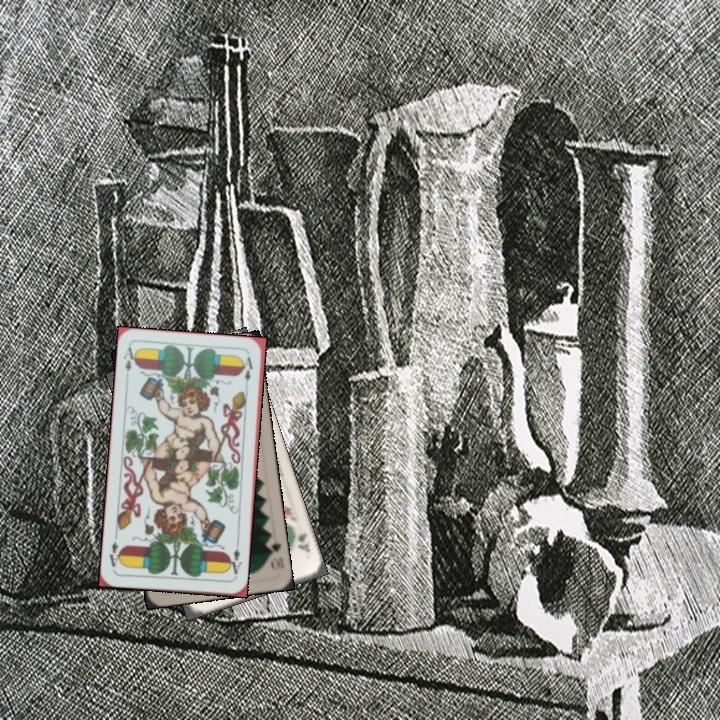EA: (224, 539, 245, 580), (120, 343, 139, 383)
G10: (263, 535, 286, 573)
GK: (293, 528, 313, 555)
